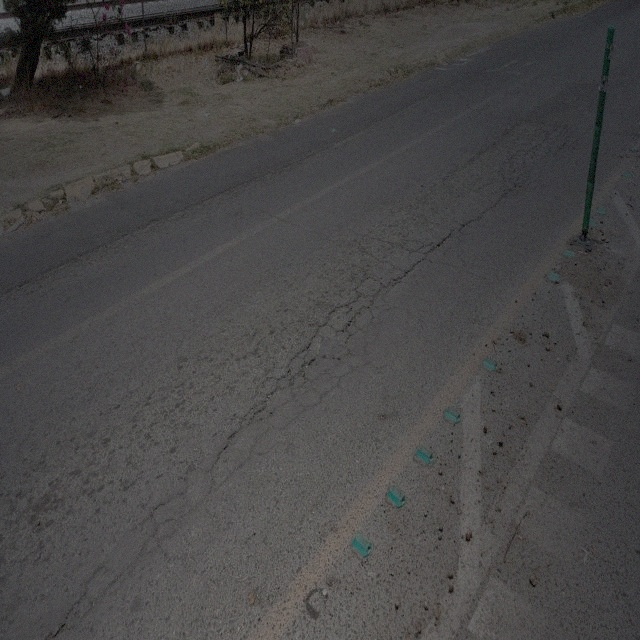pothole: (436, 234, 449, 248)
